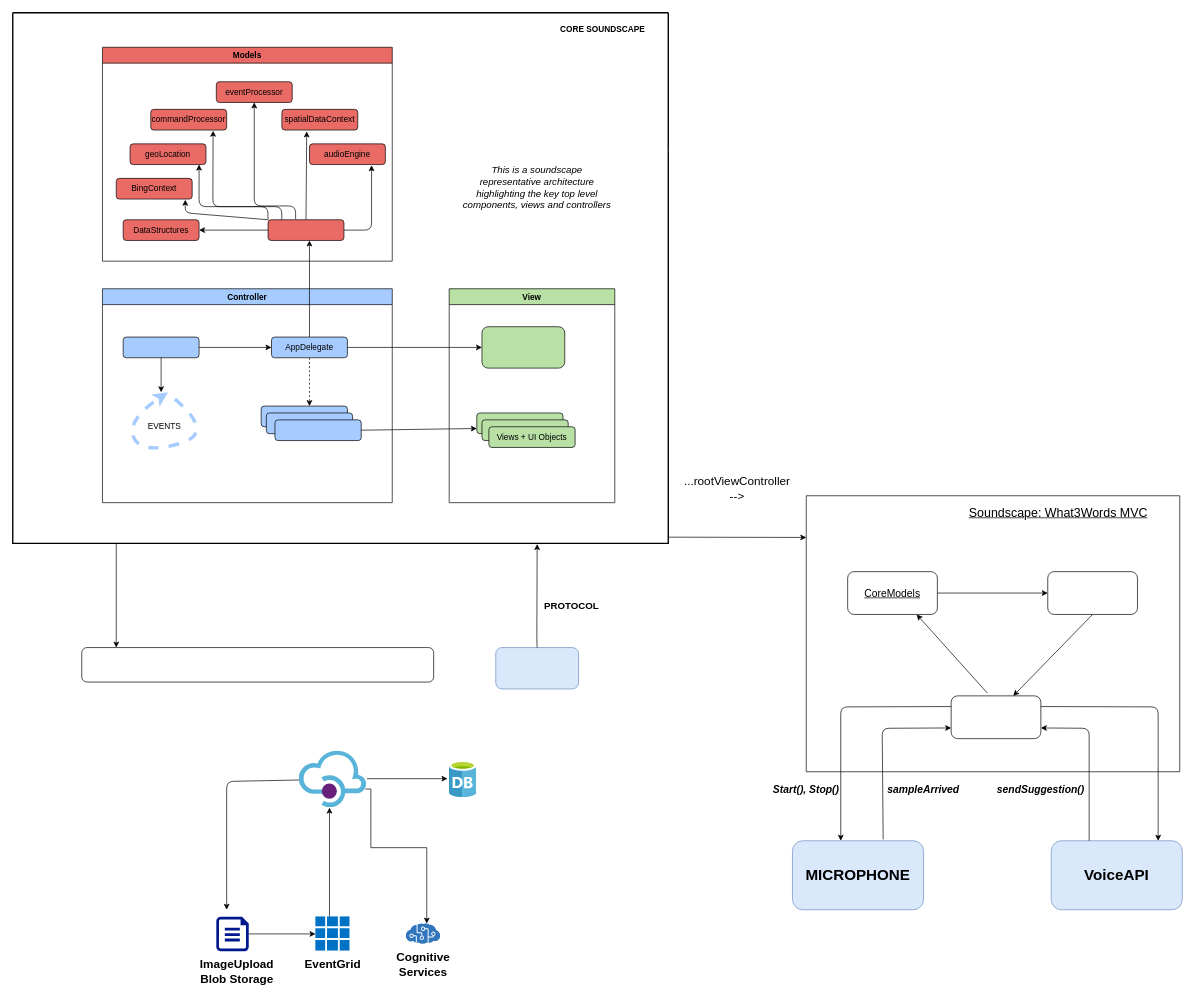
Some shapes in this 1194 by 998 pixel diagram are drawn without their labels. The shapes that lost their labels are listed below. From the top down, each one's centre as x and y in pixels, then its label:
[305,229]: AppContext
[160,347]: UIApplication
[523,347]: UIWINDOW
[317,430]: rootViewController
[1092,592]: What3Words: View
[257,664]: REST API
[537,668]: HARDWARE
[995,717]: What3WordsController
